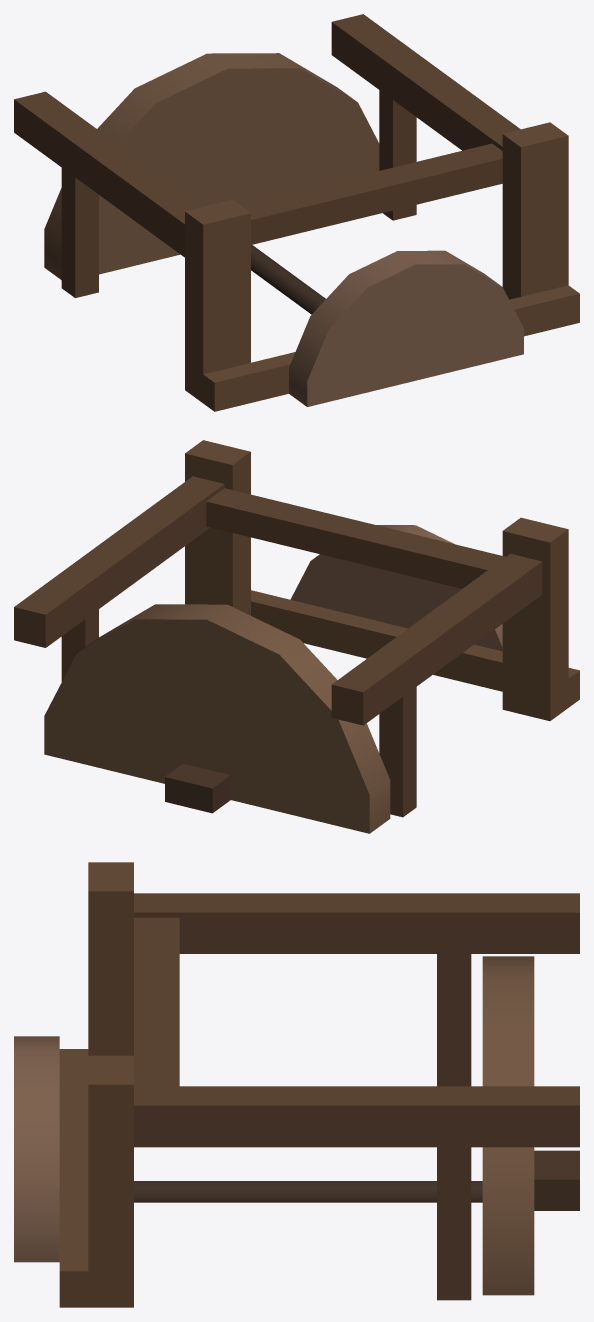
The model's file is section-0.obj.
3 views of the same model, one above another, from view 1: azimuth 30°, elevation 25°; view 2: azimuth 150°, elevation 25°; view 3: azimuth 270°, elevation 25° (orthographic). The views are drawn at different scales.
Bounding box in the file's own units: 0.92 × 0.43 × 0.99.
1 material, 1 textured.
